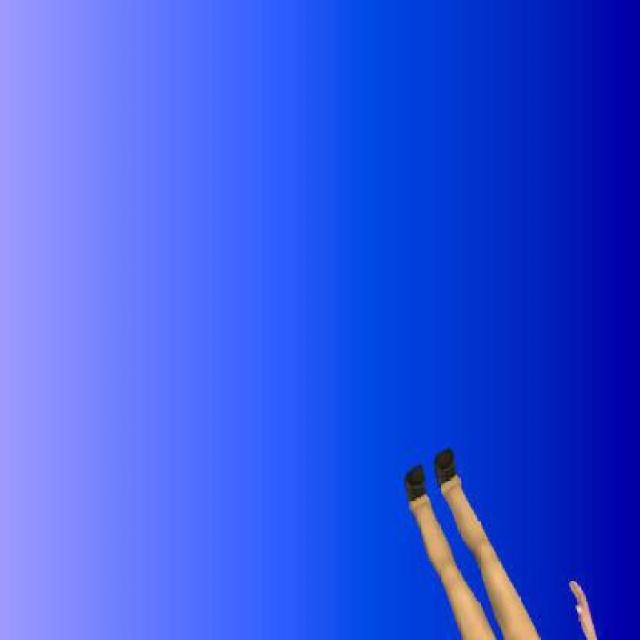Person: (398, 437, 602, 638)
